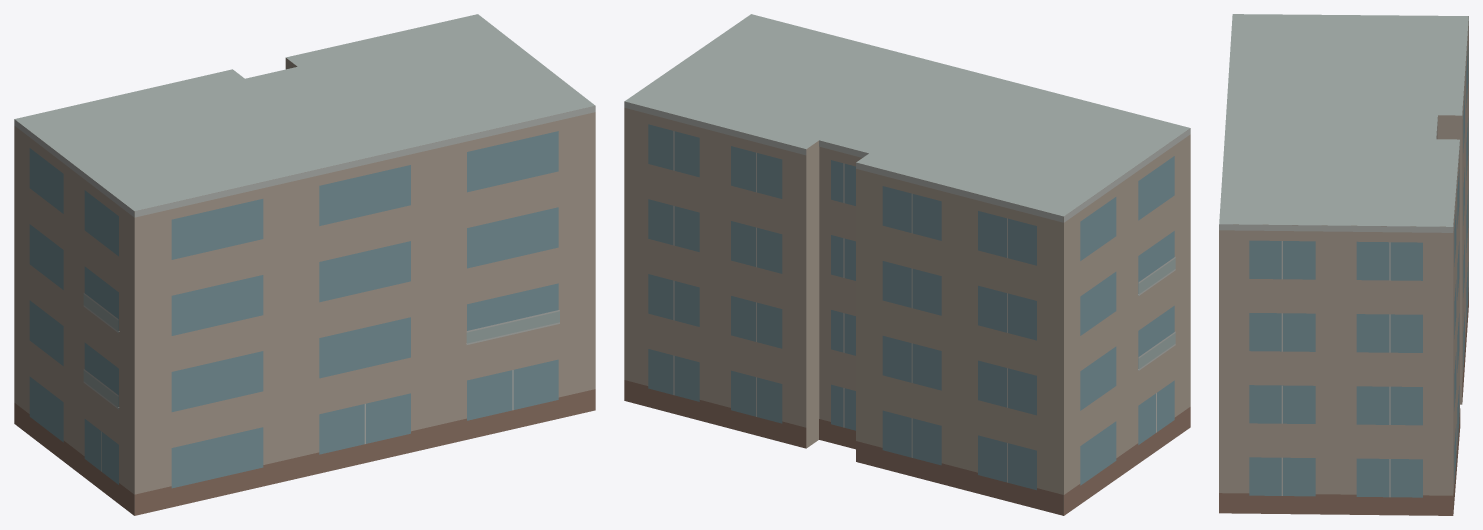
The model's file is survey-upis-32664945.glb.
3 renders of one model, left to right at view 1: azimuth 30°, elevation 25°; view 2: azimuth 150°, elevation 25°; view 3: azimuth 270°, elevation 25°, orthographic. The views are drawn at different scales.
Visible parts, largest first — view 1: survey-upis-32664945.tmp; view 2: survey-upis-32664945.tmp; view 3: survey-upis-32664945.tmp.
Part boxes in pixels (left/top/right/bottom): survey-upis-32664945.tmp: left=14, top=14, right=595, bottom=515; survey-upis-32664945.tmp: left=624, top=14, right=1190, bottom=515; survey-upis-32664945.tmp: left=1219, top=14, right=1468, bottom=515.
Bounding box in the file's own units: 18.34 × 11.6 × 9.09.
